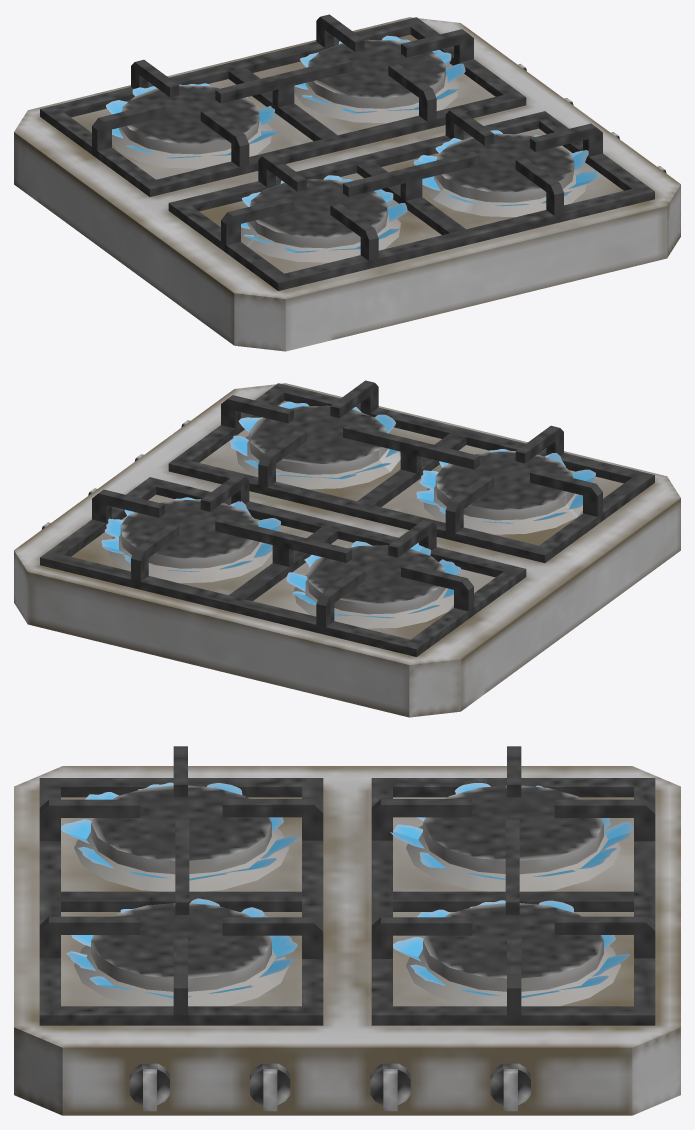
File: burner.fbx
3 renders of one model, top to bottom at view 1: azimuth 30°, elevation 25°; view 2: azimuth 150°, elevation 25°; view 3: azimuth 270°, elevation 25°, orthographic. The views are drawn at different scales.
Visible parts, largest first — view 1: burner, flame1, flame3, flame4, flame2; view 2: burner, flame4, flame2, flame1, flame3; view 3: burner, flame2, flame4, flame3, flame1.
Boxes of the visible parts, left/top/right/bottom form: burner: left=14, top=14, right=680, bottom=351; flame1: left=413, top=130, right=598, bottom=206; flame3: left=106, top=83, right=279, bottom=158; flame4: left=294, top=35, right=465, bottom=113; flame2: left=241, top=175, right=407, bottom=252; burner: left=14, top=380, right=680, bottom=717; flame4: left=101, top=497, right=280, bottom=571; flame2: left=416, top=449, right=595, bottom=523; flame1: left=230, top=401, right=398, bottom=479; flame3: left=286, top=541, right=460, bottom=618; burner: left=14, top=746, right=680, bottom=1115; flame2: left=61, top=782, right=297, bottom=880; flame4: left=393, top=900, right=629, bottom=998; flame3: left=390, top=783, right=633, bottom=879; flame1: left=66, top=898, right=297, bottom=998.
Size of the model in its own units: 104 by 18.81 by 100.
